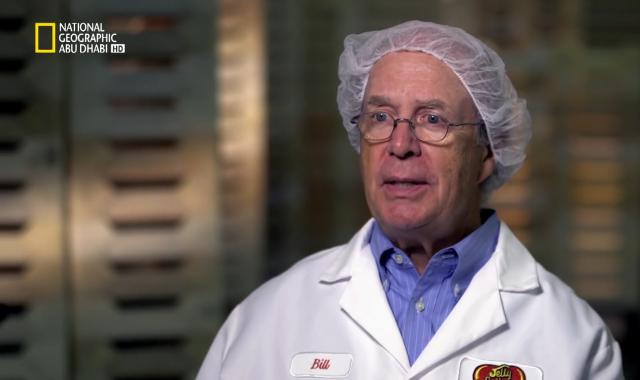hairnet: (338, 21, 522, 186)
